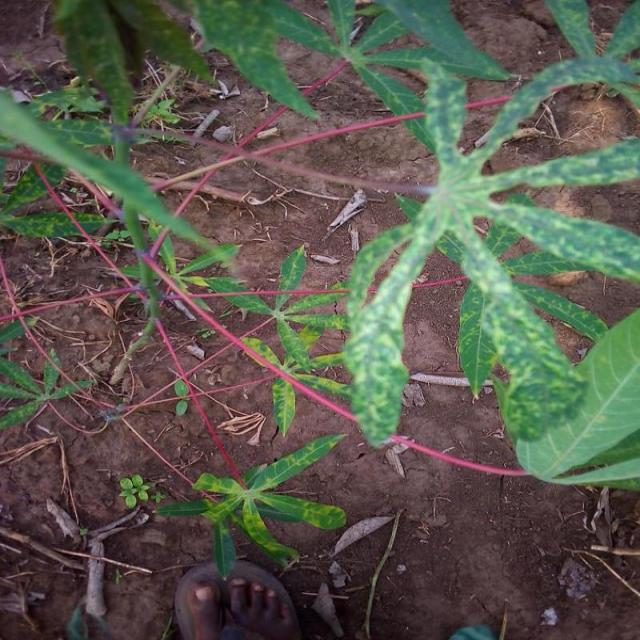cassava leaf: (507, 305, 640, 490)
